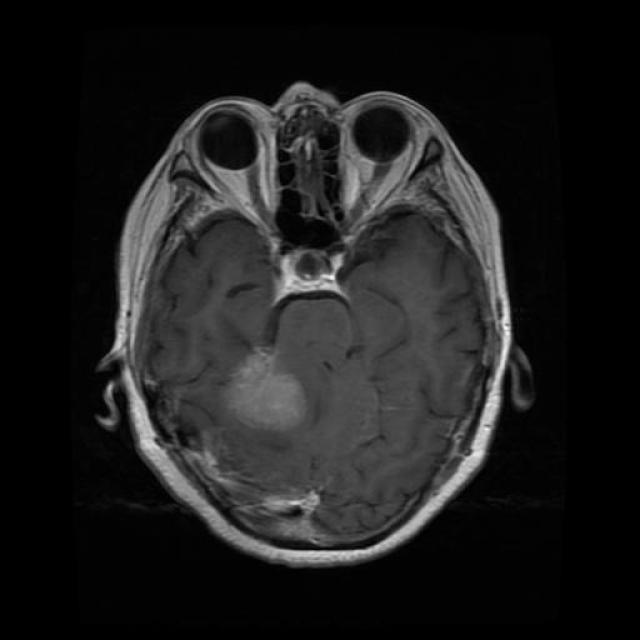meningioma: (225, 327, 319, 450)
